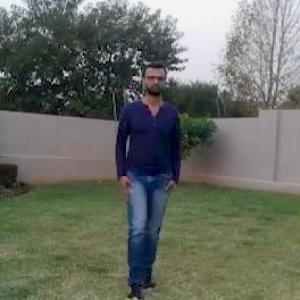follow: (112, 61, 178, 286)
